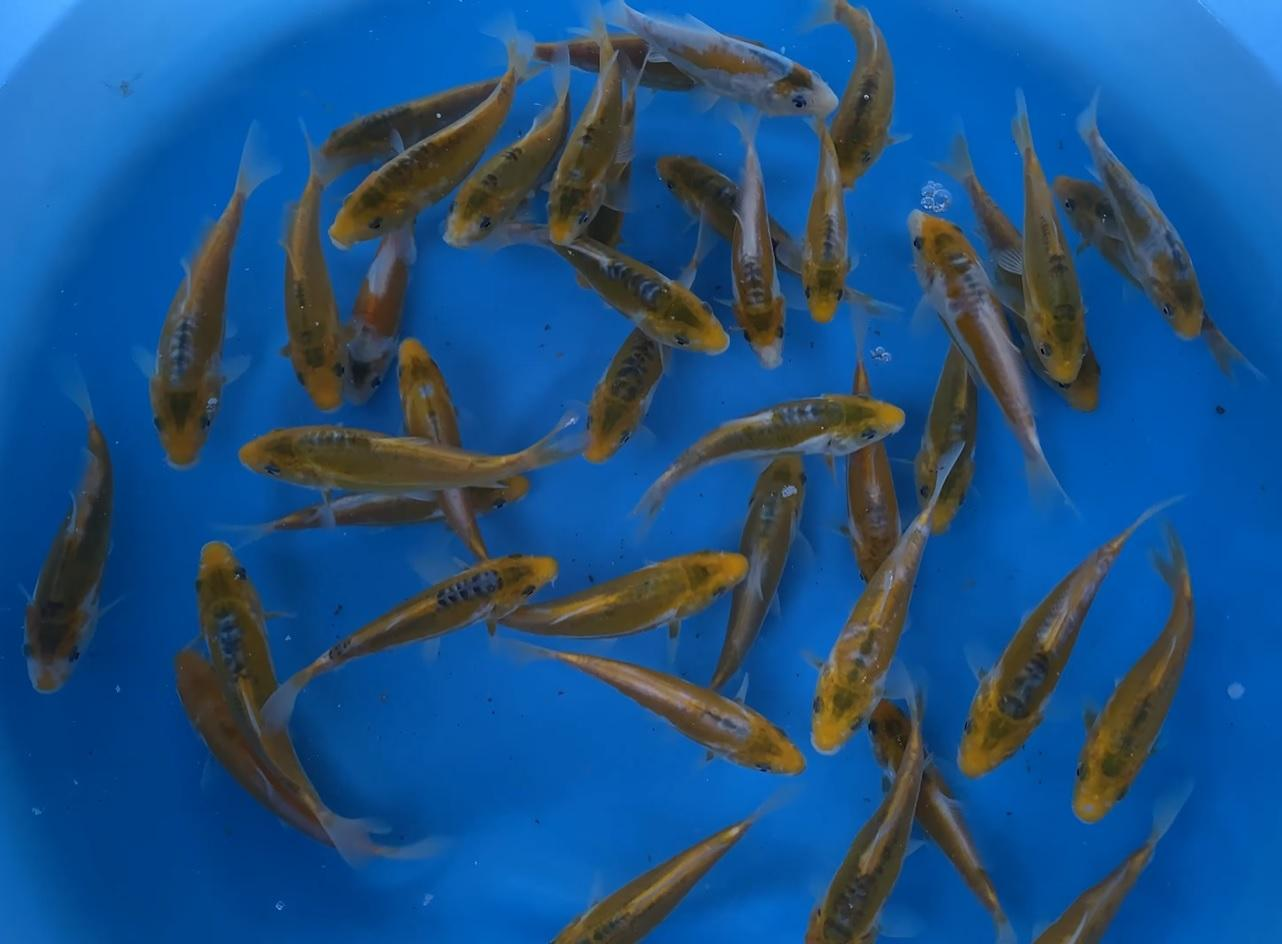fish: (240, 537, 580, 773), (130, 90, 293, 500), (316, 0, 553, 256), (1067, 513, 1247, 847), (0, 333, 140, 753), (517, 623, 833, 807), (613, 360, 930, 540), (980, 70, 1120, 407), (703, 93, 823, 390)
